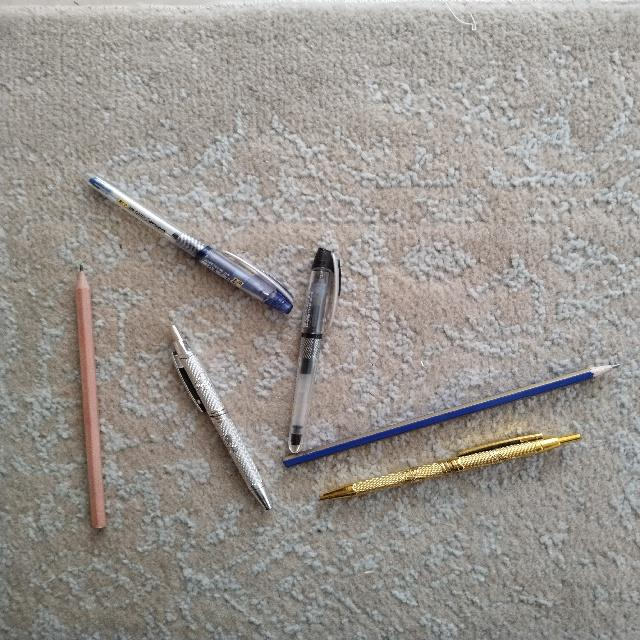pen: (88, 176, 292, 312), (288, 248, 339, 452)
pencil: (283, 364, 619, 467), (76, 266, 105, 528)
signature pen: (172, 325, 270, 509), (320, 433, 579, 499)
